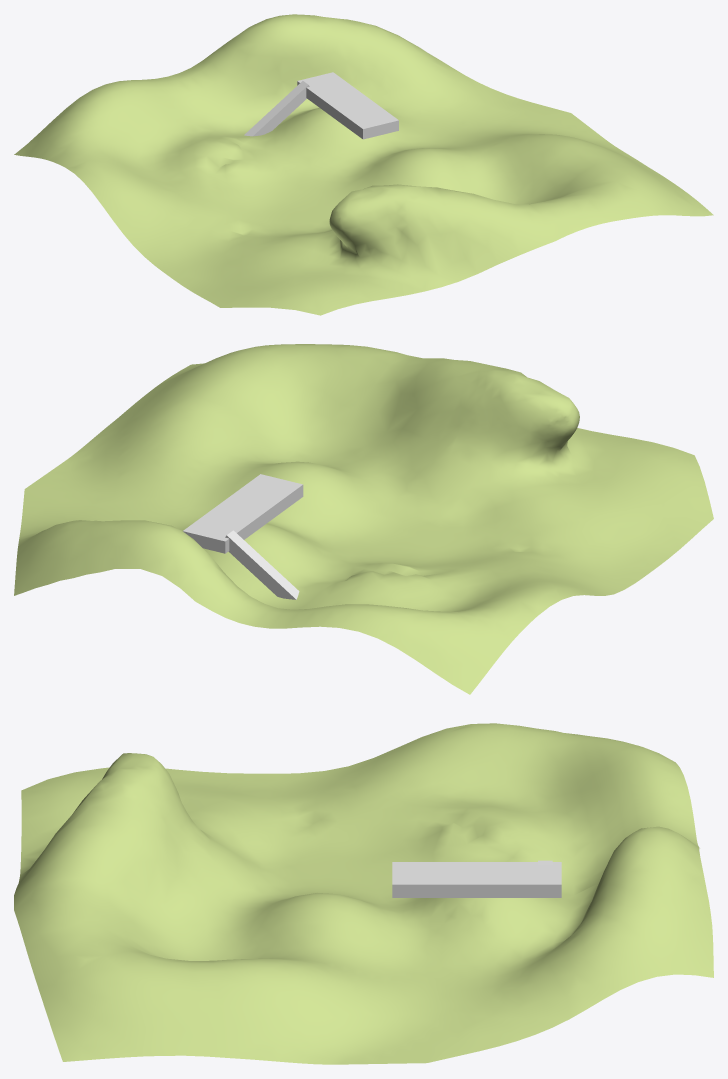
File: basic_surface.glb
The picture shows the model from 3 angles, top to bottom: view 1: azimuth 30°, elevation 25°; view 2: azimuth 150°, elevation 25°; view 3: azimuth 270°, elevation 25°; orthographic projection. The views are drawn at different scales.
Visible parts, largest first — view 1: Ground, Cube.001, Cube; view 2: Ground, Cube.001, Cube; view 3: Ground, Cube.001.
Boxes of the visible parts, box(x1,y1,x2,y2) form: Ground: box(14, 14, 713, 315); Cube.001: box(297, 72, 398, 139); Cube: box(244, 81, 309, 136); Ground: box(14, 344, 713, 694); Cube.001: box(183, 474, 303, 553); Cube: box(225, 530, 299, 599); Ground: box(14, 723, 713, 1064); Cube.001: box(392, 862, 561, 897).
Size of the model in its own units: 95.3 by 16.44 by 95.09.
Materials: 1 (1 with a texture image).
